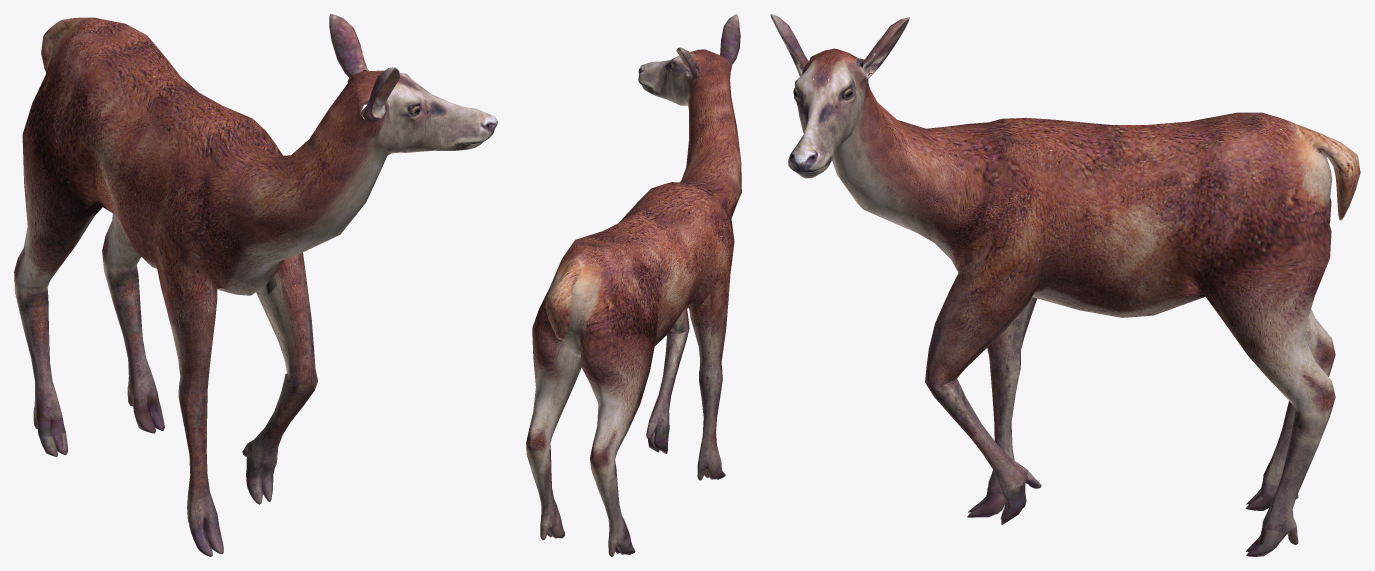
The model's file is deer.gltf.
3 renders of one model, left to right at view 1: azimuth 30°, elevation 25°; view 2: azimuth 150°, elevation 25°; view 3: azimuth 270°, elevation 25°, orthographic. The views are drawn at different scales.
Parts seen in each view (by area): view 1: Body_body, Head_head; view 2: Body_body, Head_head; view 3: Body_body, Head_head.
Boxes of the visible parts, x1=… form: Body_body: x1=14, y1=17, x2=390, y2=556; Head_head: x1=329, y1=14, x2=497, y2=153; Body_body: x1=526, y1=59, x2=741, y2=556; Head_head: x1=638, y1=14, x2=740, y2=105; Body_body: x1=832, y1=83, x2=1360, y2=556; Head_head: x1=770, y1=14, x2=909, y2=178.
Bounding box in the file's own units: 2.49 × 5.54 × 5.5.
3 materials, 3 textured.
